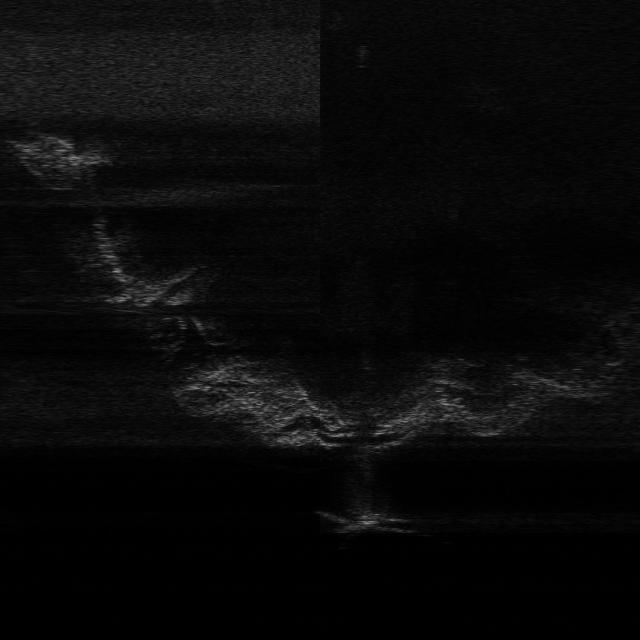plane: (314, 507, 422, 535)
